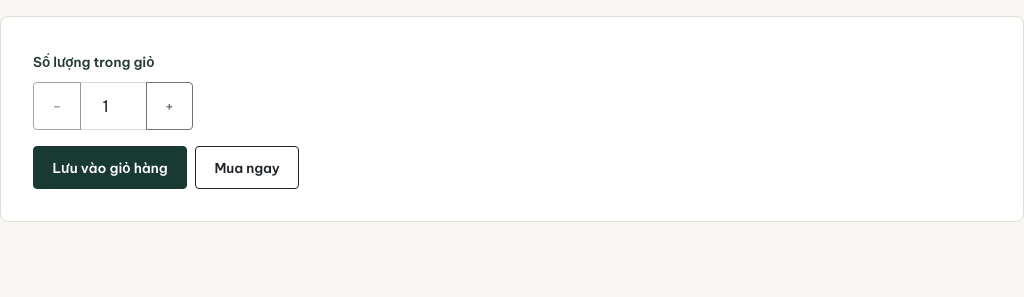
Test case: lưu đúng biến thể và số lượng vào API
Replace the text in the number field labelled "Số lượng trong giỏ" with "2" at point(113, 106), box [80,82,147,130]
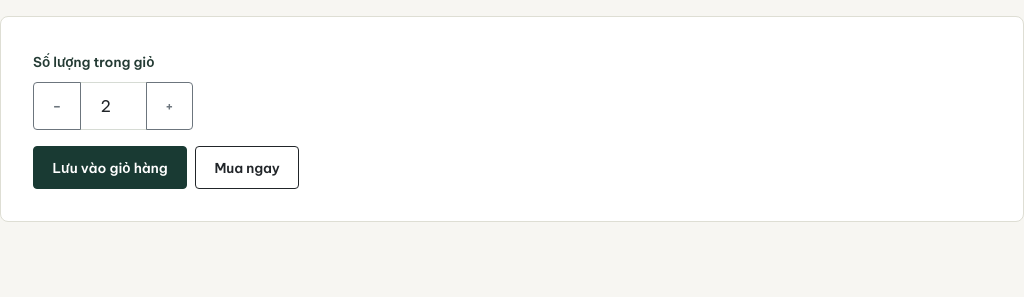
Click the button "Lưu vào giỏ hàng" at point(110, 168), box [33,146,187,189]
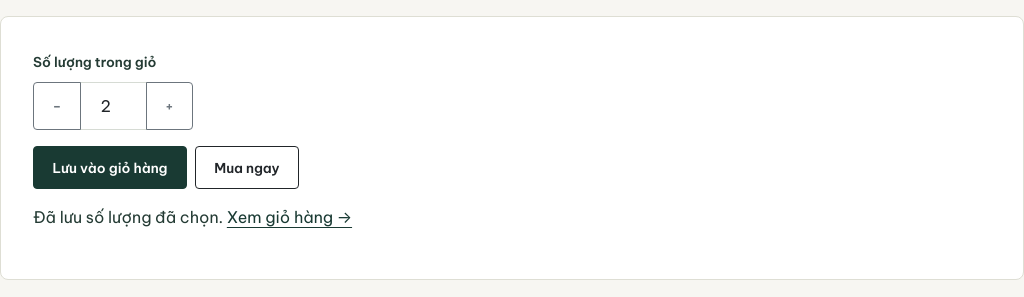
Check: the link "Xem giỏ hàng →" is shown, box [227,207,352,227]
